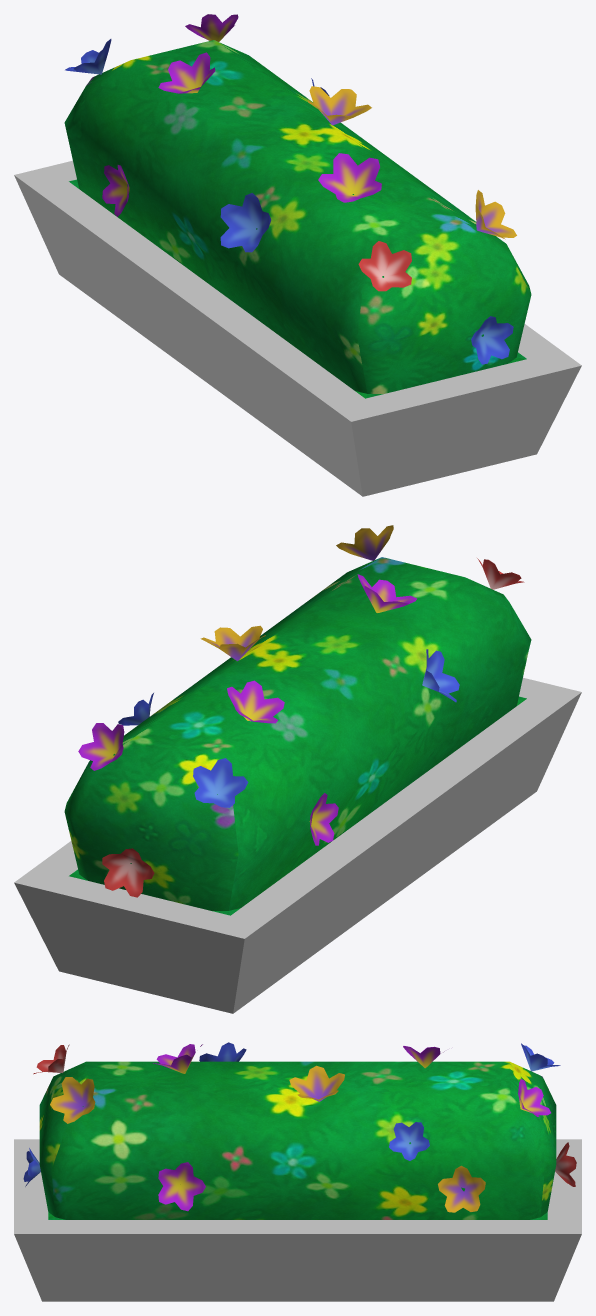
Rendered from Plant04_a02.FBX.
3 renders of one model, top to bottom at view 1: azimuth 30°, elevation 25°; view 2: azimuth 150°, elevation 25°; view 3: azimuth 270°, elevation 25°, orthographic. The views are drawn at different scales.
Parts seen in each view (by area): view 1: Plant04_a02; view 2: Plant04_a02; view 3: Plant04_a02.
Boxes of the visible parts, left/top/right/bottom form: Plant04_a02: left=14, top=14, right=581, bottom=496; Plant04_a02: left=14, top=525, right=581, bottom=1013; Plant04_a02: left=14, top=1042, right=581, bottom=1301.
Bounding box in the file's own units: 124 × 128 × 306.
